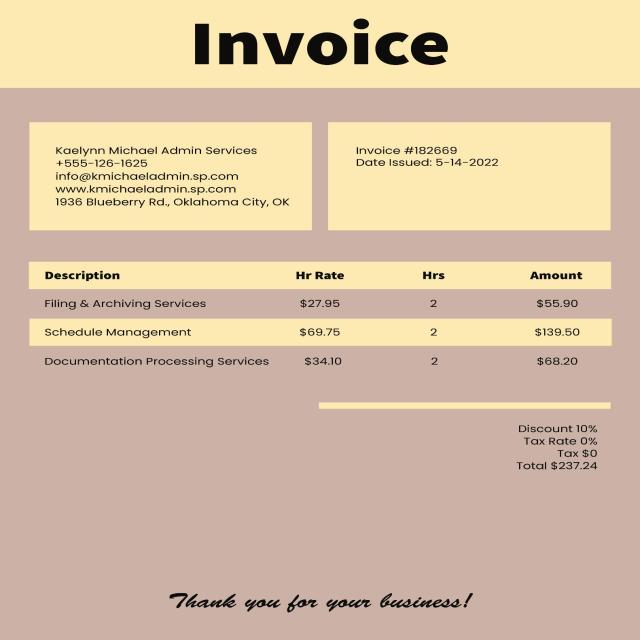paragraph: (42, 134, 300, 220), (165, 14, 460, 80), (433, 408, 622, 495), (153, 584, 492, 620), (343, 139, 507, 176)
table: (19, 255, 621, 384)
